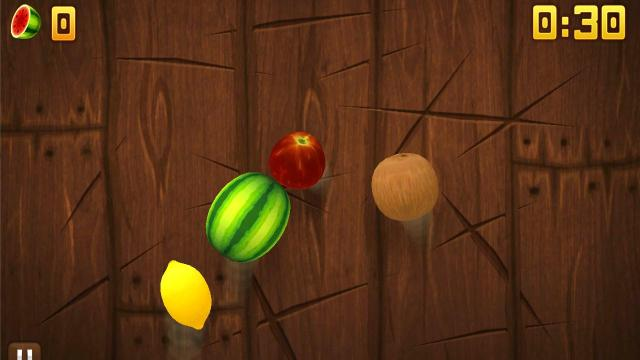fruit: (206, 172, 290, 262), (370, 152, 438, 220), (159, 260, 213, 330), (268, 131, 326, 189)
ignore: (10, 4, 42, 40)
